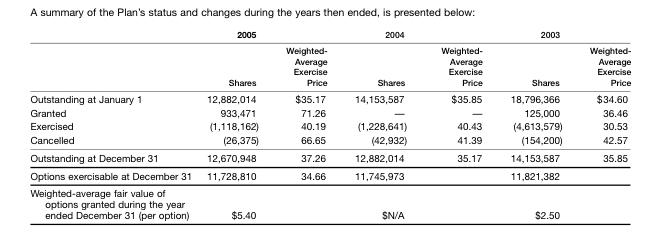table: (29, 28, 630, 219)
table column: (29, 28, 198, 219), (340, 28, 423, 219), (495, 28, 575, 219), (198, 28, 271, 219), (423, 28, 495, 219), (271, 28, 340, 219), (575, 28, 630, 219)
table column header: (29, 28, 630, 89)
table row: (29, 41, 630, 89), (29, 183, 630, 219), (29, 148, 630, 166), (29, 166, 630, 183), (29, 132, 630, 148), (29, 89, 630, 104), (29, 104, 630, 118), (29, 118, 630, 132), (29, 28, 630, 41)
table spanning cell: (340, 28, 495, 41), (198, 28, 340, 41), (495, 28, 630, 41)
